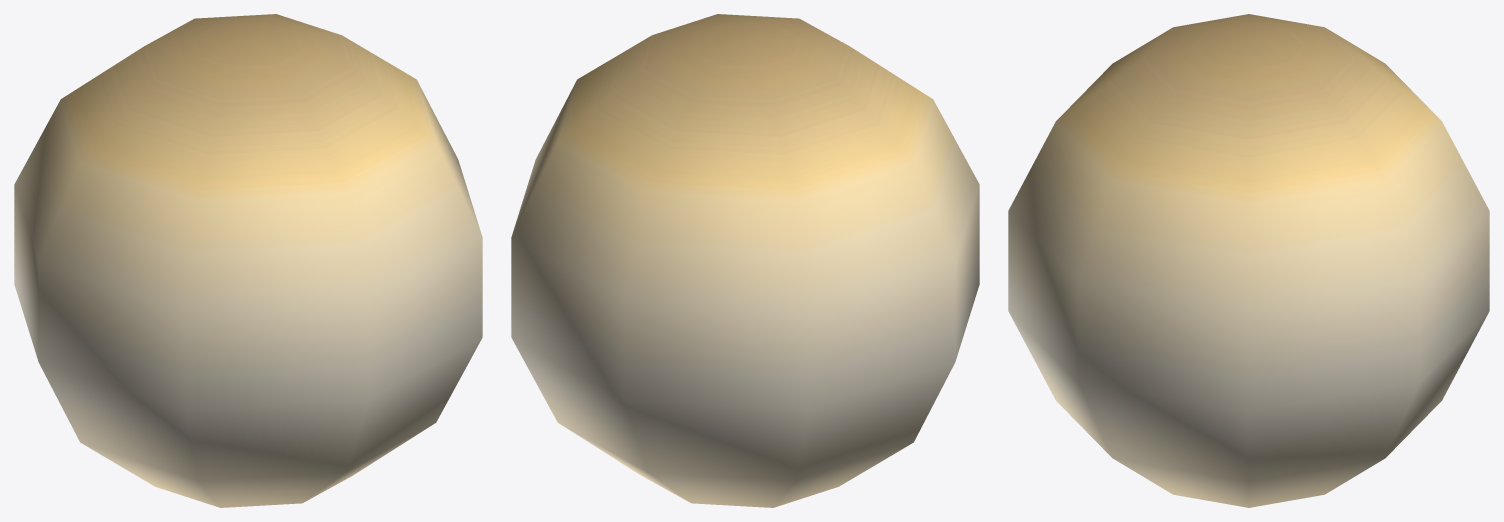
Rendered from HangingLight_04.fbx.
The picture shows the model from 3 angles, left to right: view 1: azimuth 30°, elevation 25°; view 2: azimuth 150°, elevation 25°; view 3: azimuth 270°, elevation 25°; orthographic projection.
Parts seen in each view (by area): view 1: SphericalHangingLight; view 2: SphericalHangingLight; view 3: SphericalHangingLight.
Part boxes in pixels (<box>): SphericalHangingLight: <box>14,14,482,507</box>; SphericalHangingLight: <box>511,14,979,507</box>; SphericalHangingLight: <box>1008,14,1489,507</box>.
Bounding box in the file's own units: 120 × 121 × 120.
